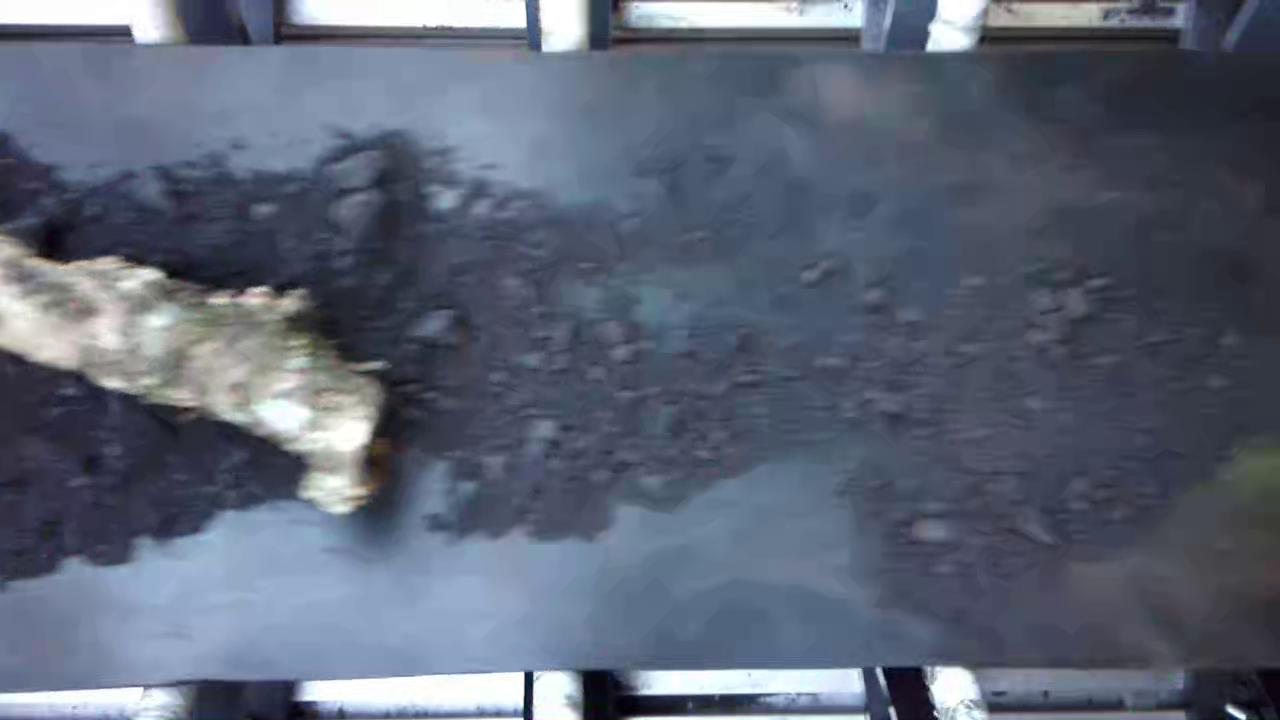conveyor: (3, 59, 1280, 659)
